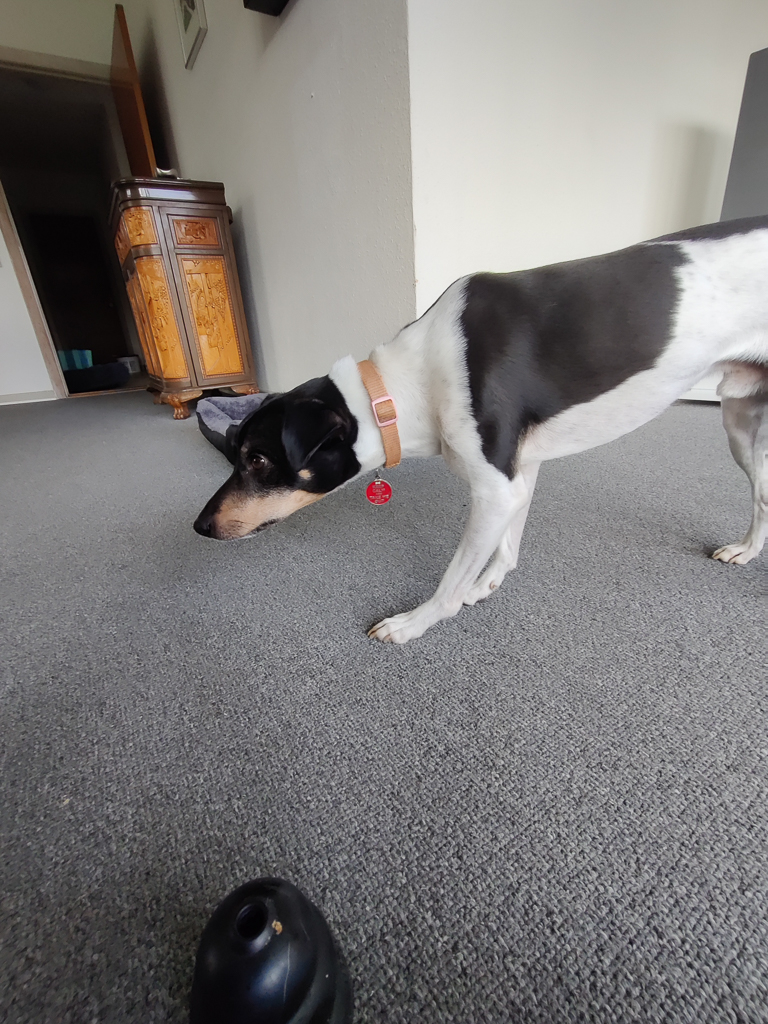Dog: (168, 194, 768, 672)
